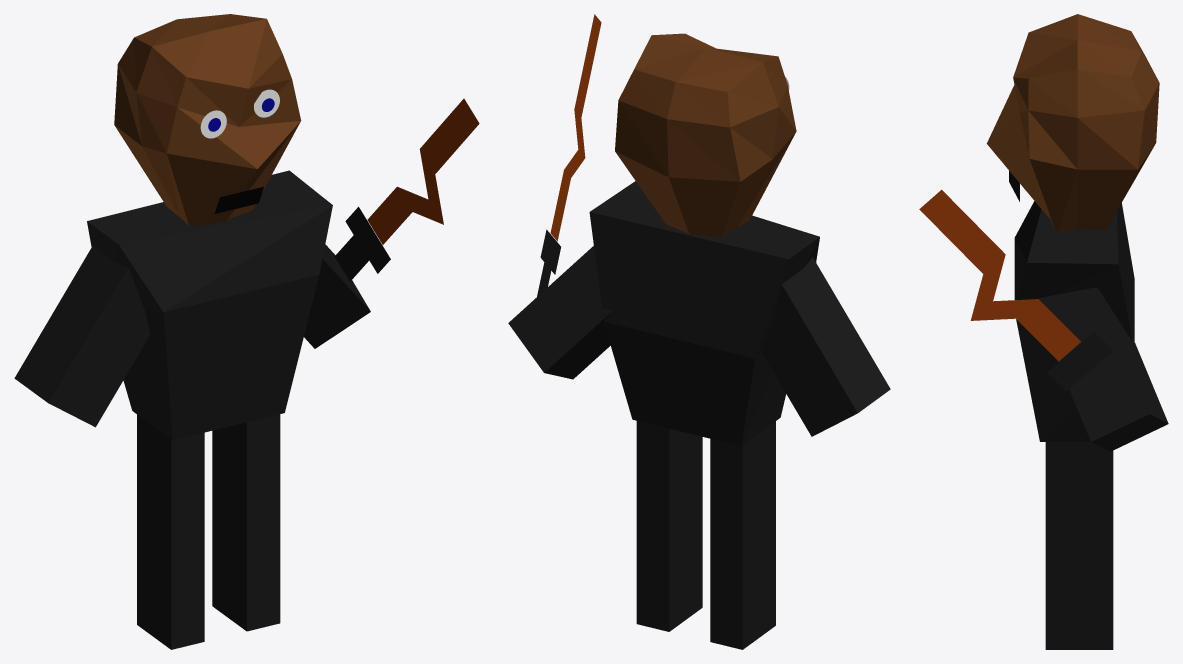
File: swordsman2f.obj
The picture shows the model from 3 angles, left to right: view 1: azimuth 30°, elevation 25°; view 2: azimuth 150°, elevation 25°; view 3: azimuth 270°, elevation 25°; orthographic projection. The views are drawn at different scales.
Visible parts, largest first — view 1: Cube.001, Cube, Cube.004, Cube.005, Cube.003, Plane.003_Plane.004, Cube.002, Plane.002_Plane.003, Plane.001_Plane.002, Plane; view 2: Cube.001, Cube, Cube.004, Cube.005, Cube.003, Cube.002, Plane.003_Plane.004, Plane.002_Plane.003; view 3: Cube, Cube.005, Cube.001, Cube.002, Plane.003_Plane.004, Plane.002_Plane.003.
Part boxes in pixels (x1,y1,x2,y2): Cube.001: (87,170,332,440); Cube: (114,14,301,226); Cube.004: (137,414,204,649); Cube.005: (212,414,280,631); Cube.003: (14,246,150,427); Plane.003_Plane.004: (367,98,479,244); Cube.002: (304,244,370,348); Plane.002_Plane.003: (345,206,390,273); Plane.001_Plane.002: (334,233,368,281); Plane: (214,186,263,213); Cube.001: (589,181,819,446); Cube: (615,33,796,237); Cube.004: (710,421,775,649); Cube.005: (636,421,702,631); Cube.003: (762,257,890,436); Cube.002: (508,246,612,379); Plane.003_Plane.004: (550,14,601,241); Plane.002_Plane.003: (540,229,560,274); Cube: (986,14,1159,231); Cube.005: (1045,442,1113,649); Cube.001: (1014,201,1134,441); Cube.002: (1037,287,1168,451); Plane.003_Plane.004: (919,189,1080,361); Plane.002_Plane.003: (1047,332,1112,391).
Bounding box in the file's own units: 3.77 × 5.86 × 2.27.
